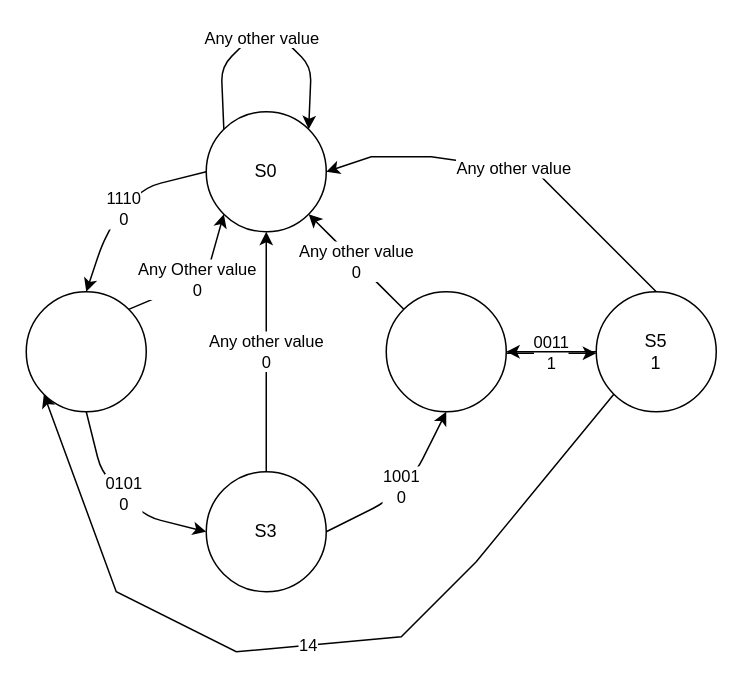
Some shapes in this 743 by 690 pixel diagram are drawn without their labels. The shapes that lost their labels are listed below. From the top down, each one's centre as x and y in pixels, then its label:
[85,351]: S1
[445,351]: S4
